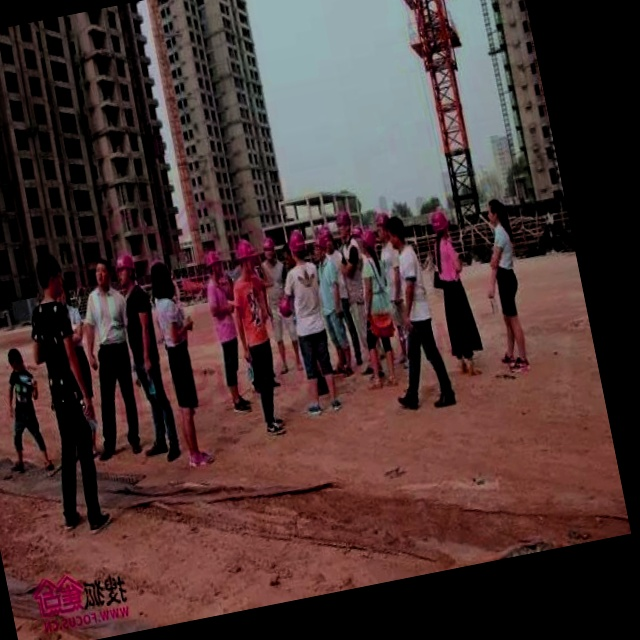Sin_Casco_Mascarrilla: (33, 252, 65, 298), (384, 214, 409, 251), (91, 256, 114, 291)
Sin_Chaleco: (29, 298, 88, 406), (285, 261, 330, 335), (152, 292, 192, 348)
